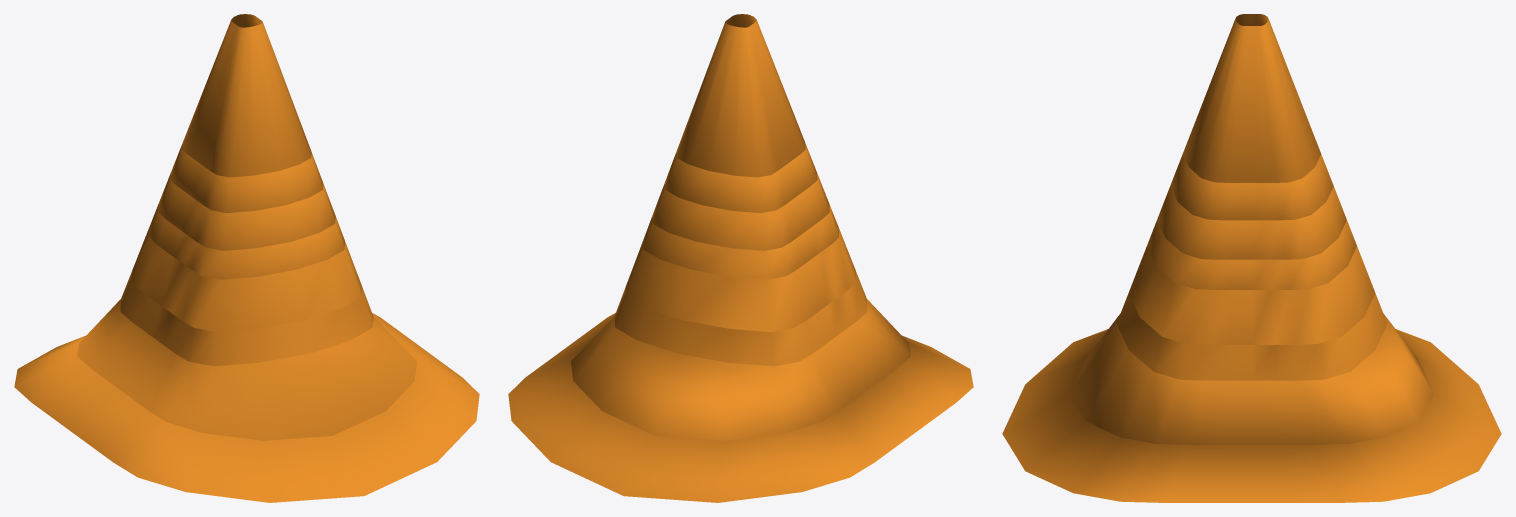
The model's file is trafik konisi şapkası.fbx.
3 views of the same model, side by side, from view 1: azimuth 30°, elevation 25°; view 2: azimuth 150°, elevation 25°; view 3: azimuth 270°, elevation 25° (orthographic). The views are drawn at different scales.
Visible parts, largest first — view 1: Cube.005; view 2: Cube.005; view 3: Cube.005.
Part boxes in pixels (x1=…): Cube.005: x1=14, y1=14, x2=479, y2=502; Cube.005: x1=508, y1=14, x2=973, y2=502; Cube.005: x1=1002, y1=14, x2=1501, y2=502.
Size of the model in its own units: 297 by 317 by 346.
